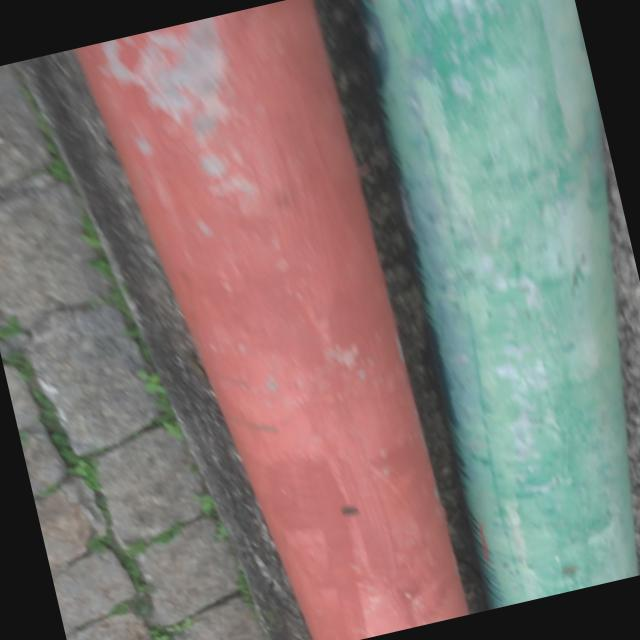gas: (64, 0, 473, 640), (347, 0, 640, 609)
